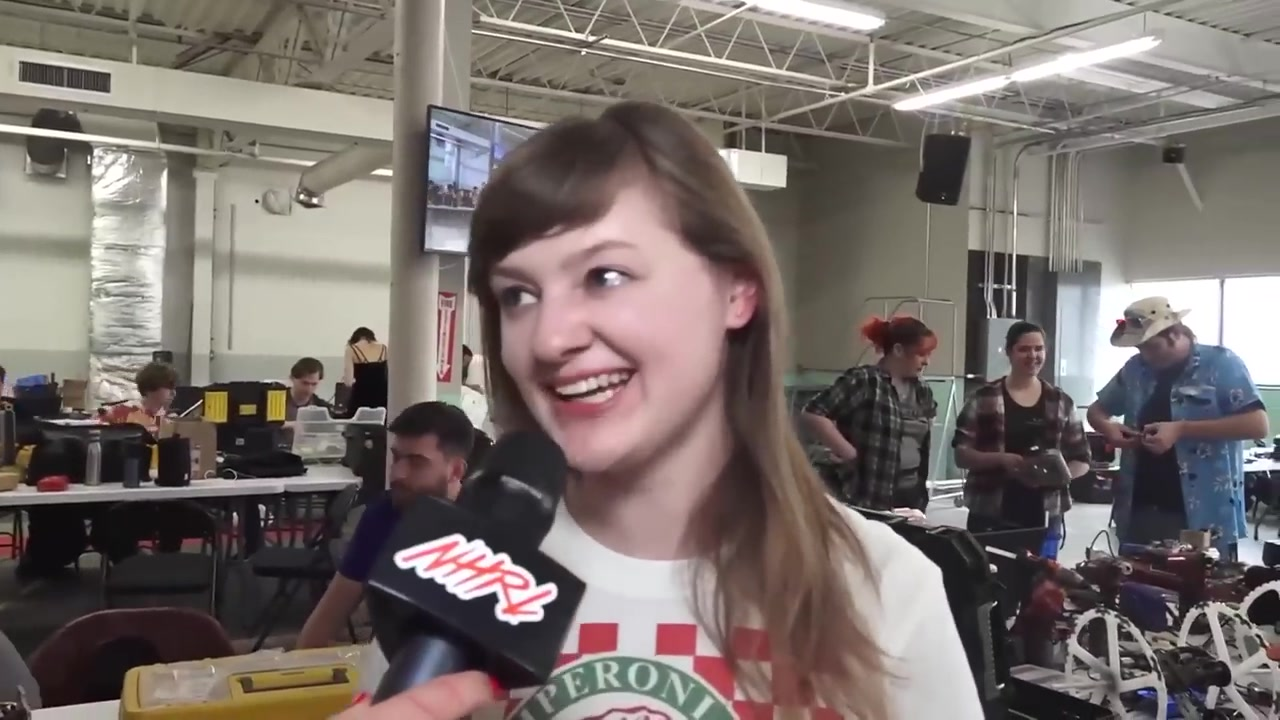combatbot: (1069, 601, 1279, 719)
